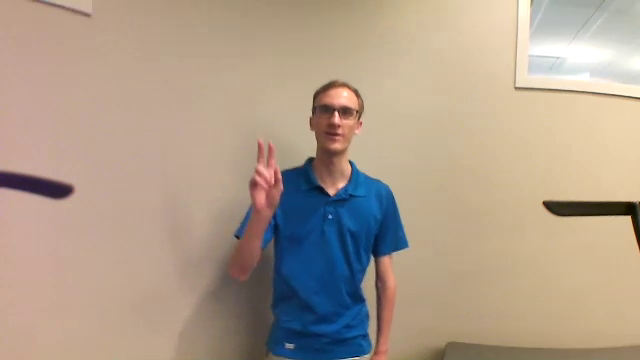peace: (244, 133, 289, 223)
